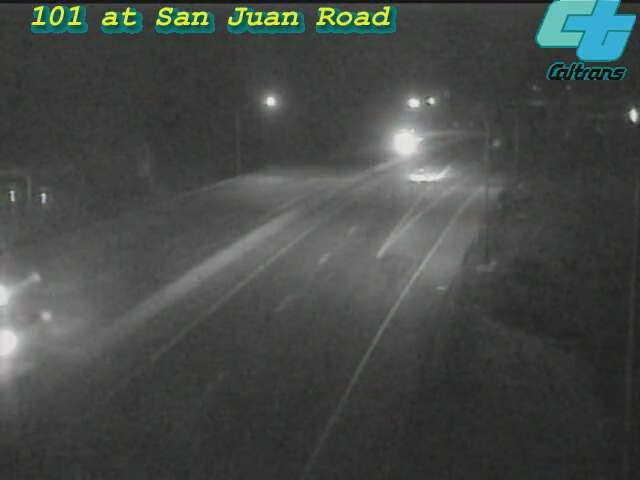vehicle: (1, 281, 68, 391), (377, 136, 457, 216), (1, 253, 52, 333), (377, 117, 427, 167)
